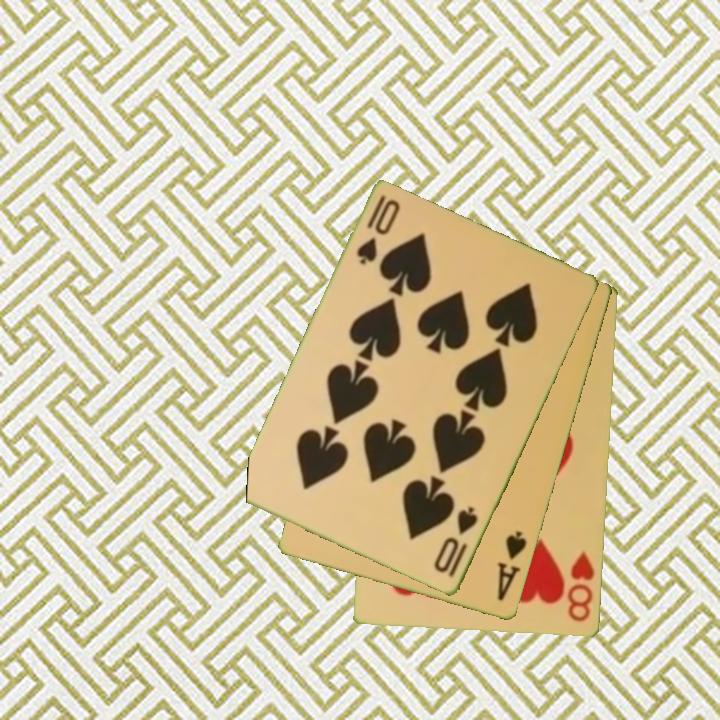10s: (430, 503, 481, 581), (353, 191, 404, 269)
8h: (564, 549, 598, 625)
As: (494, 528, 530, 605)
